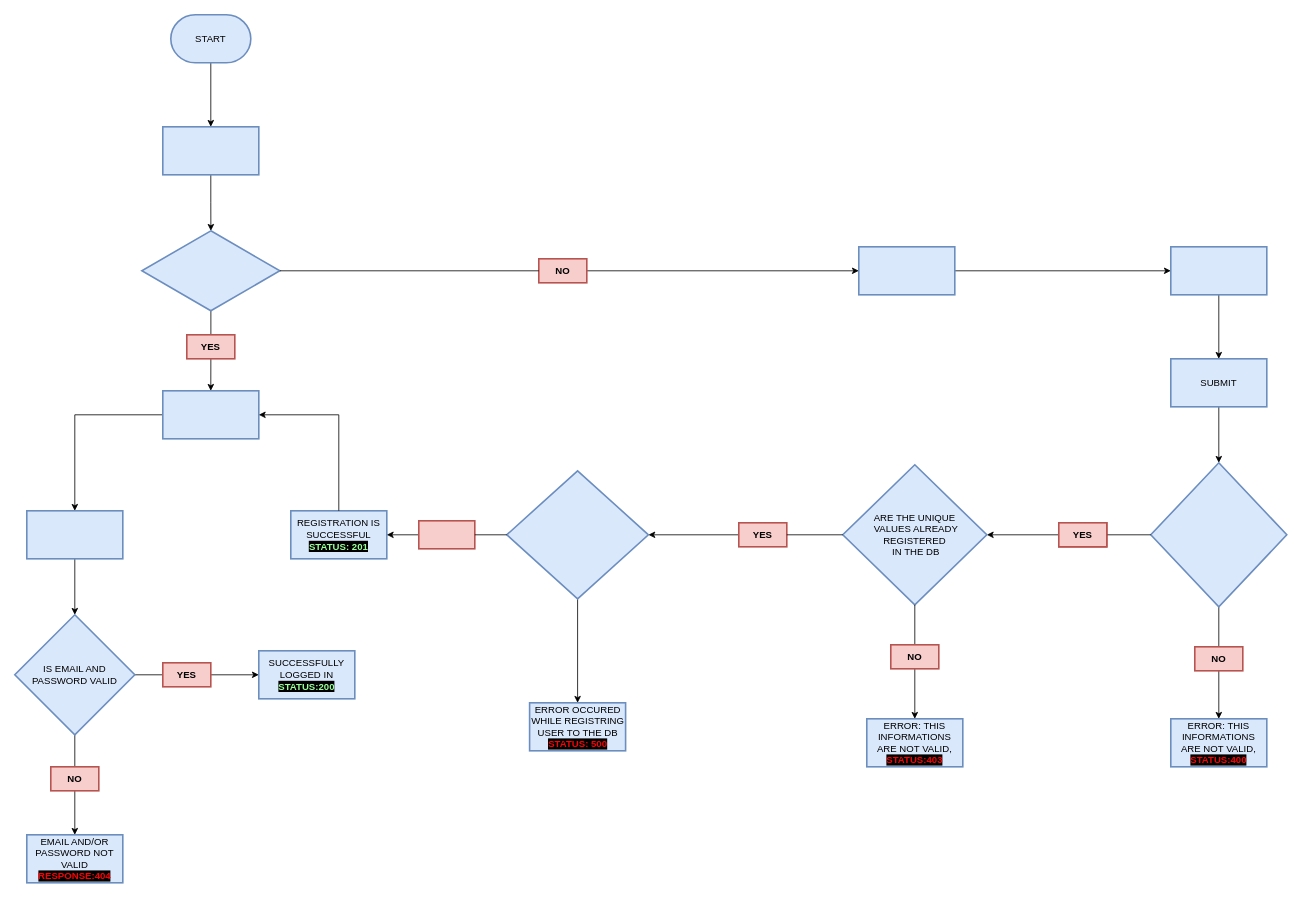
Some shapes in this 1301 by 897 pixel diagram are drawn without their labels. Each missing label, with the centre of its shape:
"ENTER EMAIL AND PASSWORD" goes at point (74, 534).
"ENTER TO THE LOGIN SITE" goes at point (210, 150).
"FILL REQUIRED INFORMATIONS" goes at point (1218, 270).
"HAVE AN ACCOUNT" goes at point (210, 270).
"IS INFORMATIONS VALID" goes at point (1218, 534).
"IS USER REGISTERED SUCCESSFULLY IN THE DB" goes at point (577, 534).
"LOG IN" goes at point (210, 414).
"REGISTER" goes at point (906, 270).
"SUCCESS" goes at point (446, 534).
